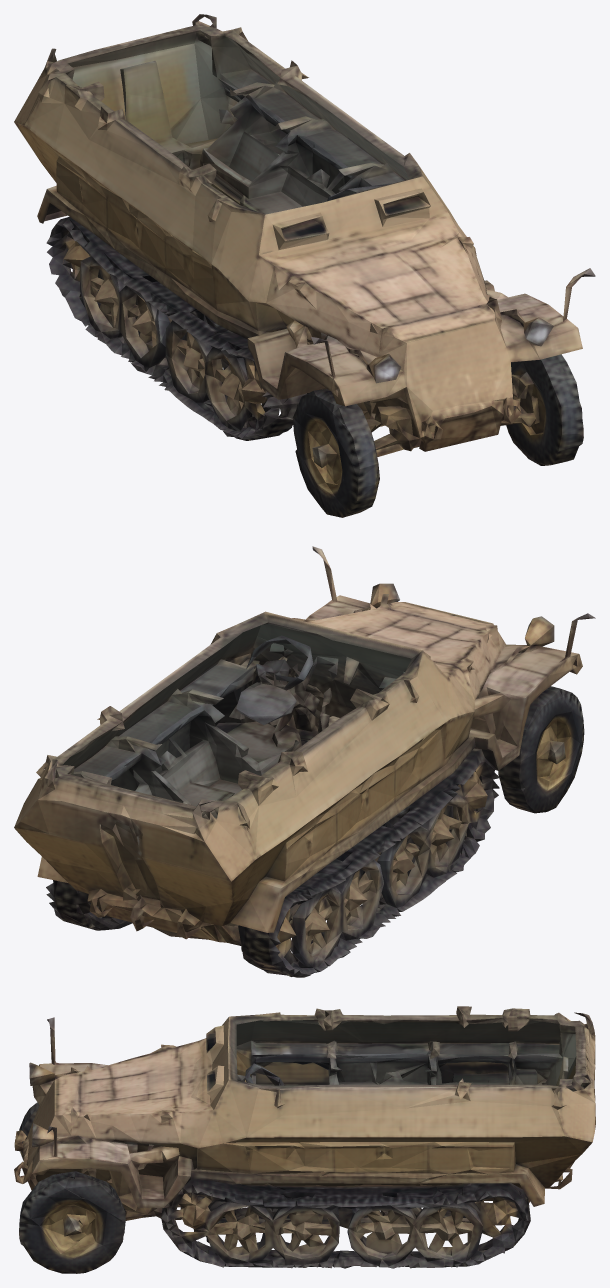
Rendered from halftrack.glb.
3 views of the same model, one above another, from view 1: azimuth 30°, elevation 25°; view 2: azimuth 150°, elevation 25°; view 3: azimuth 270°, elevation 25° (orthographic). The views are drawn at different scales.
Parts seen in each view (by area): view 1: geometry_0; view 2: geometry_0; view 3: geometry_0.
Part boxes in pixels (x1=…): geometry_0: x1=14, y1=14, x2=595, y2=517; geometry_0: x1=14, y1=546, x2=595, y2=977; geometry_0: x1=14, y1=1006, x2=595, y2=1273.
Size of the model in its own units: 0.4611 by 0.3554 by 1.
1 material, 1 textured.
